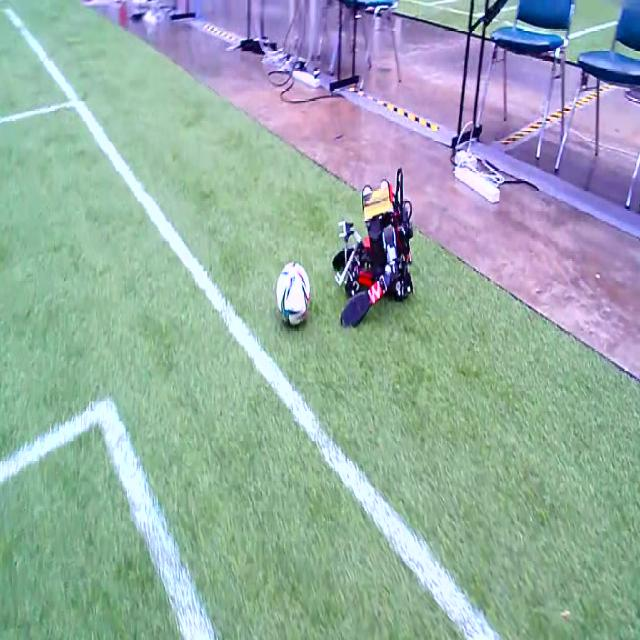ball: (277, 262, 311, 326)
